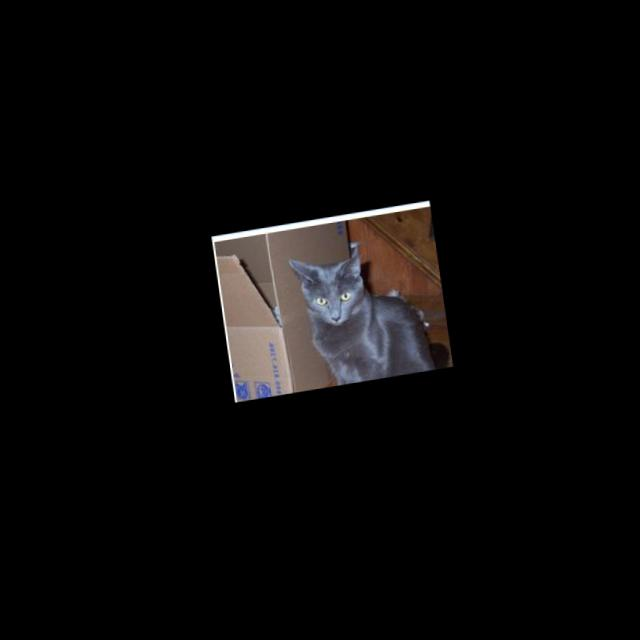animals: (288, 250, 364, 329)
